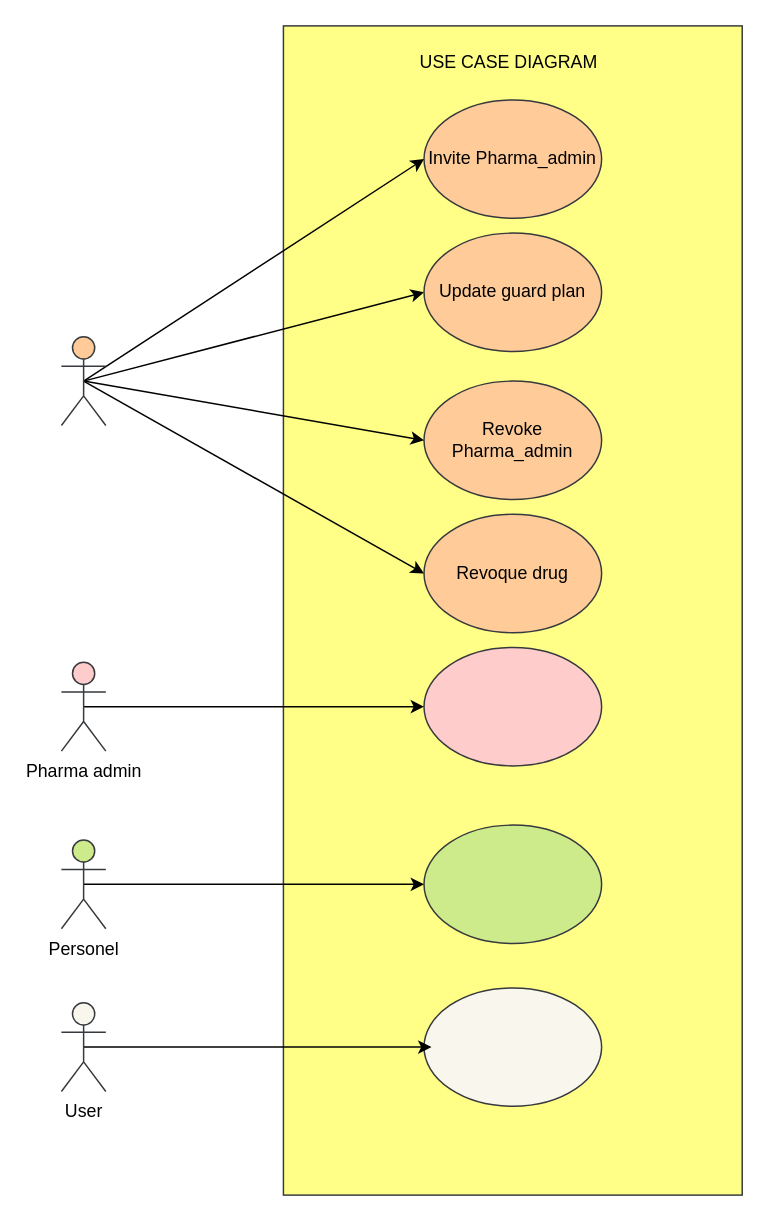
Some shapes in this 768 by 1221 pixel diagram are drawn without their labels. The shapes that lost their labels are listed below. From the top down, each one's centre as x and y in pixels, then its label:
At [83,380]: "Super admin".
At [512,706]: "Invite personnel".
At [512,884]: "Update stock".
At [512,1046]: "Search".
